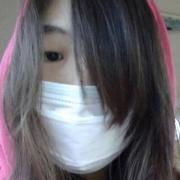OK: (14, 23, 147, 156)
